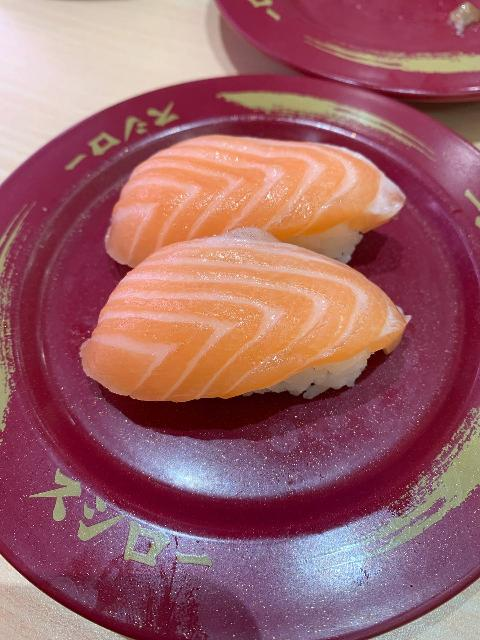janred: (13, 77, 480, 549), (233, 0, 480, 100)
